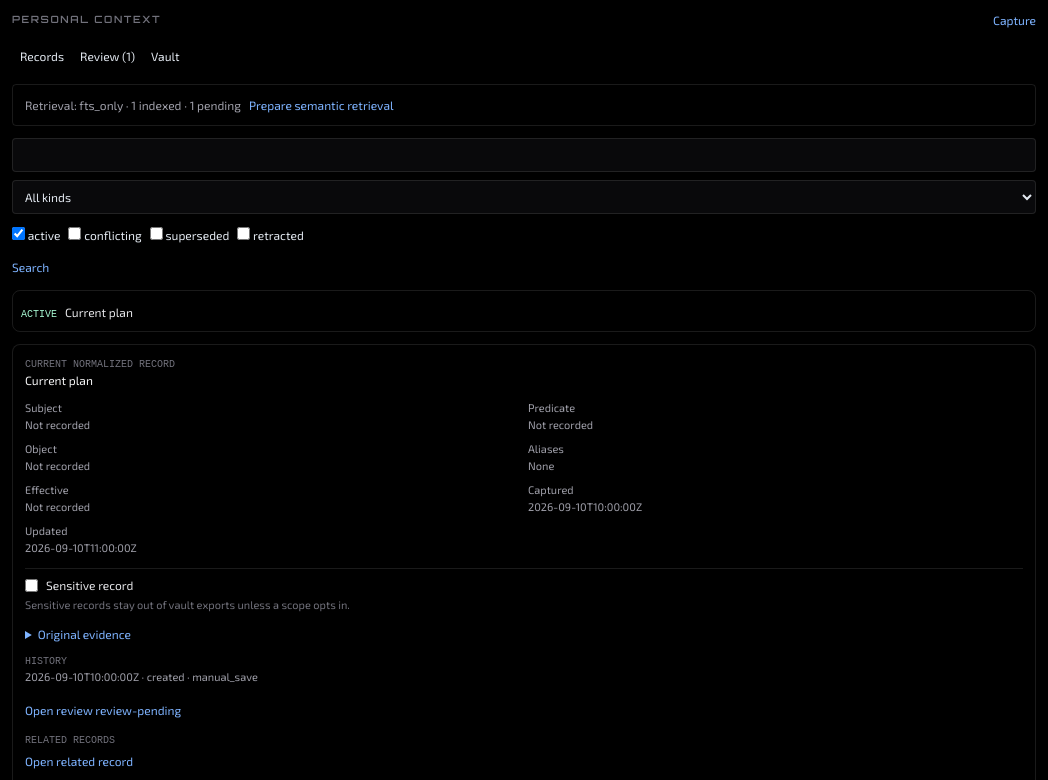
Test: CortexContext › opens a record's pending review and selects its exact id
This screenshot has width=1048, height=780.
Click the button "Open review review-pending" at (103, 710), box [25,702,181,718]
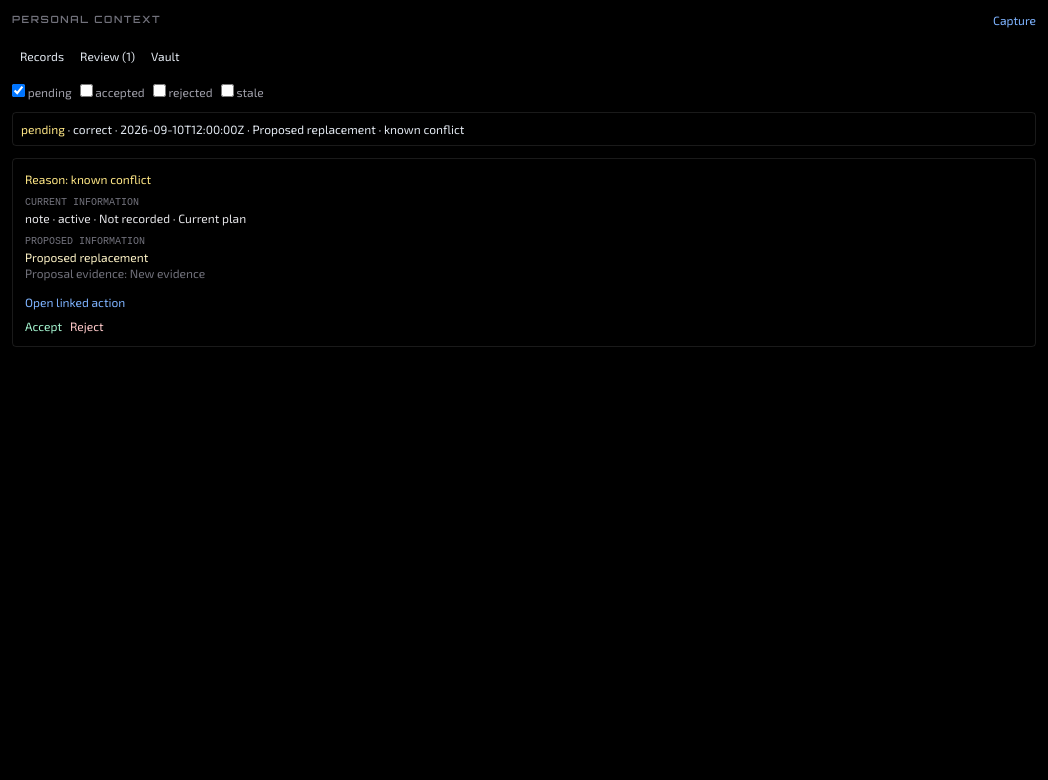
Result: the panel named "Review" is shown at [12,84,1036,347]
